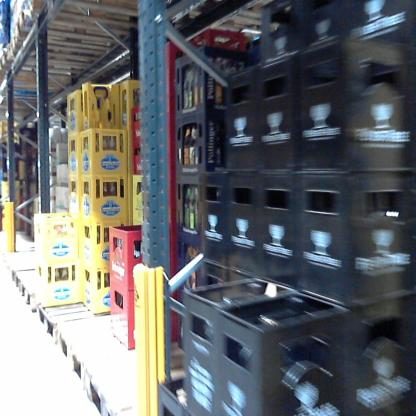pallet: (55, 317, 164, 384), (19, 0, 178, 42), (86, 355, 190, 411), (8, 23, 131, 68), (1, 44, 110, 86), (37, 296, 101, 338), (27, 271, 67, 311), (5, 265, 31, 300)
